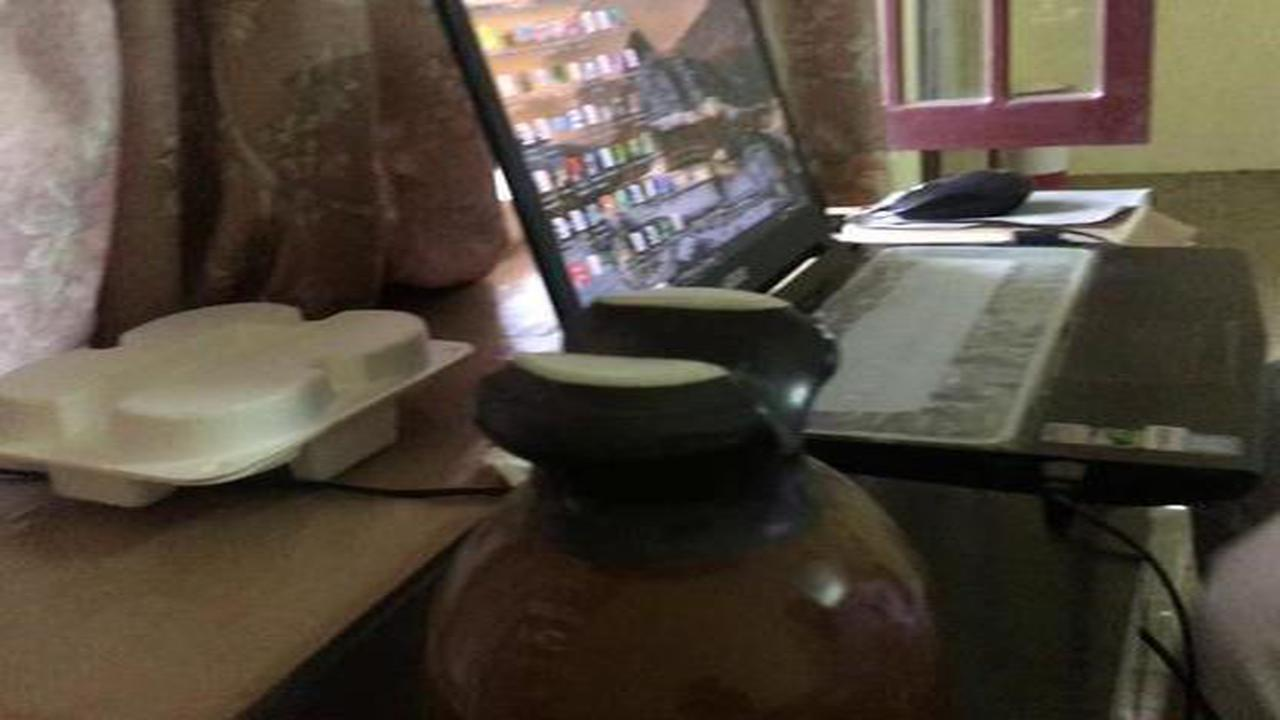insulator_pin: (404, 274, 979, 714)
